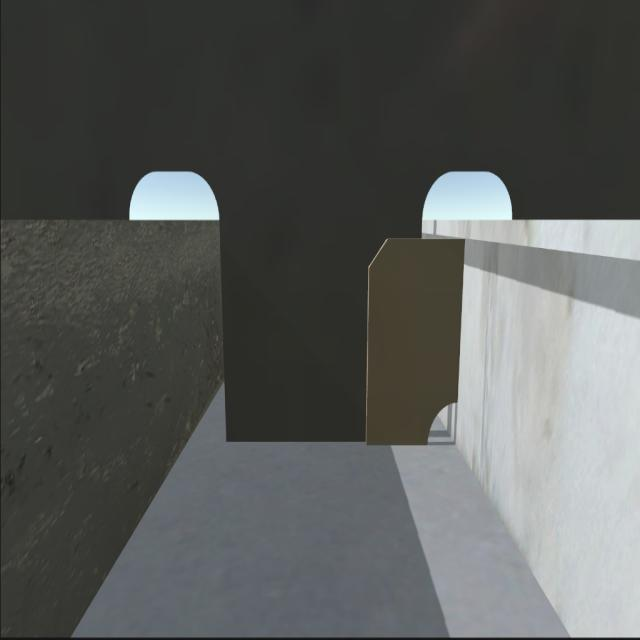fillet_hole: (426, 400, 458, 447)
fillet_yong_jeop_jang: (227, 432, 431, 454)
longi_yong_jeop_jang: (454, 235, 466, 401)
plate_CP03: (367, 232, 464, 448)
